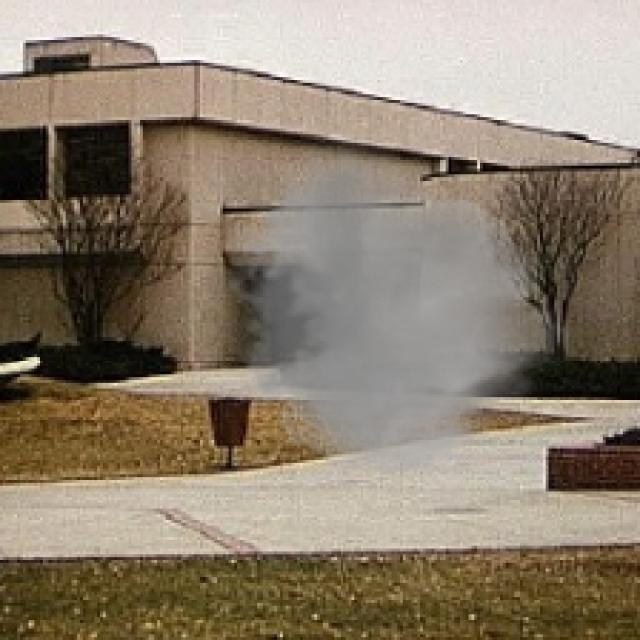Smoke: (211, 128, 583, 483)
